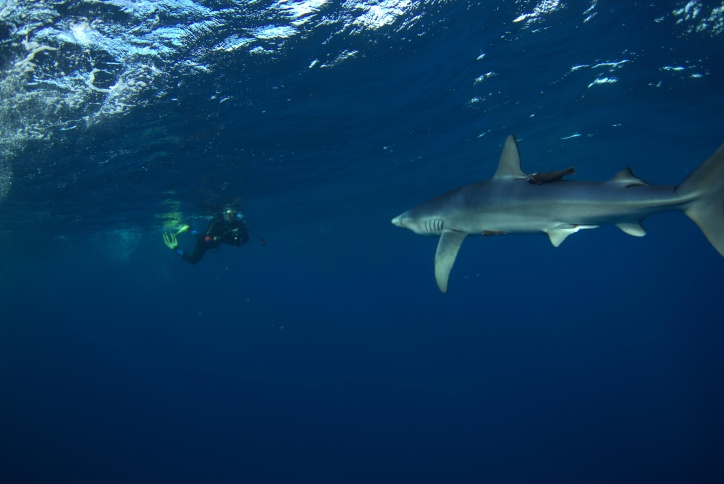Azul: (374, 111, 724, 295)
